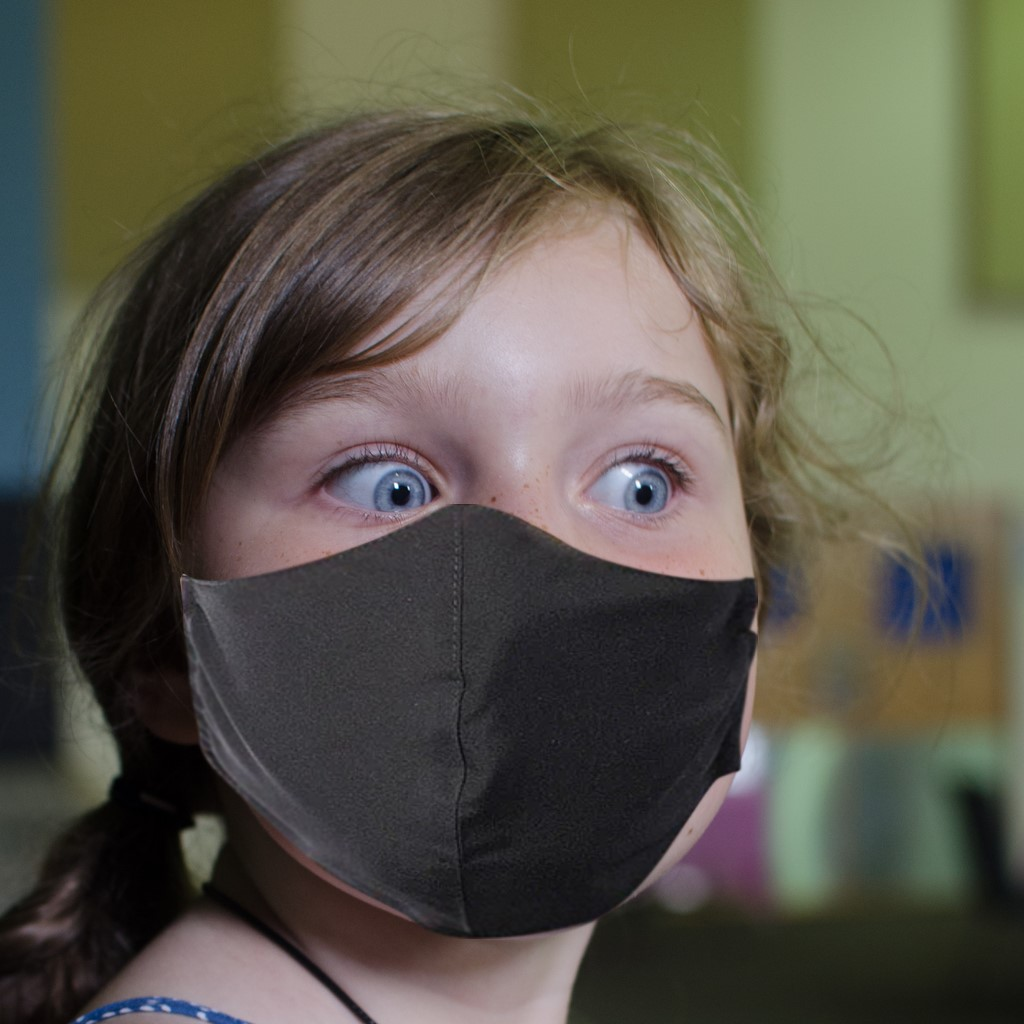con_mascara: (164, 160, 771, 938)
